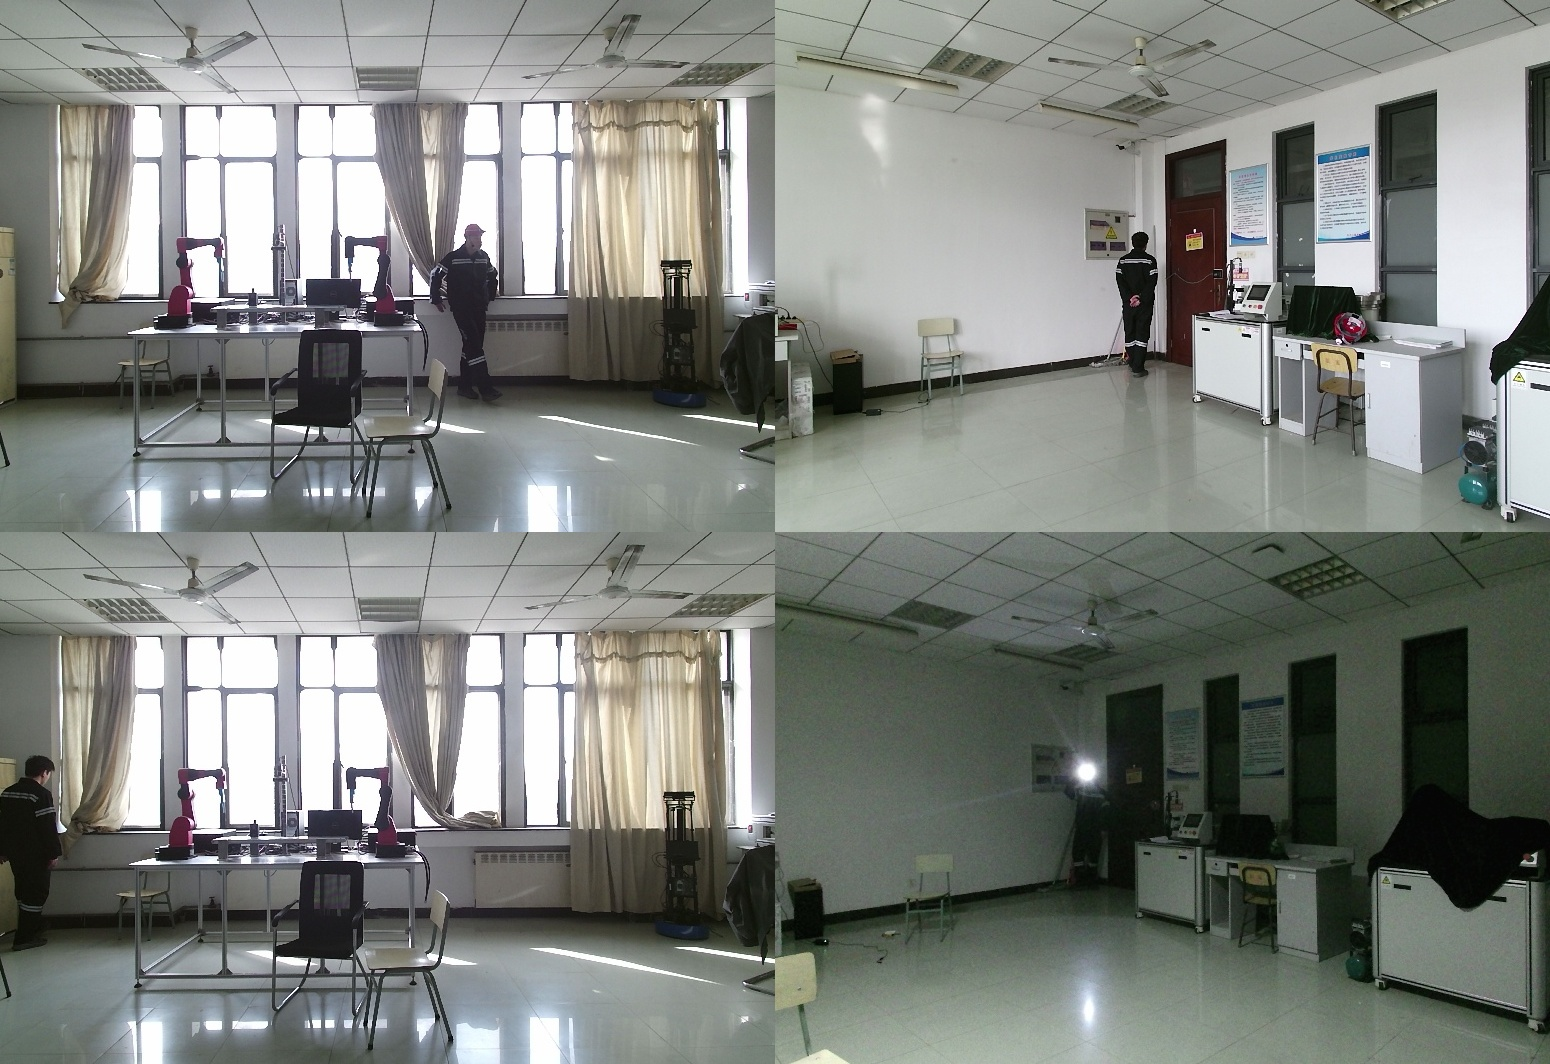person: (433, 226, 516, 406), (1, 756, 68, 949), (1115, 233, 1165, 381), (1063, 769, 1107, 895)
